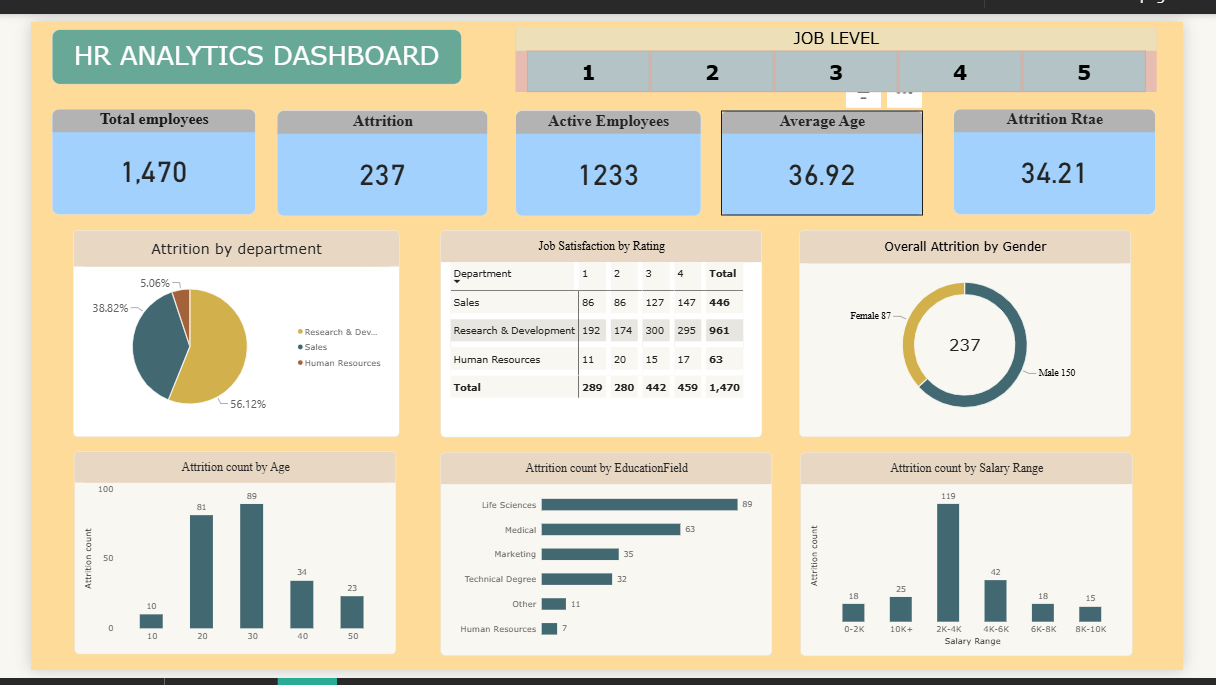

The dashboard page shown, as its layout file describes it:
{"tool":"powerbi","page":{"name":"Page 1","canvas":[1920,1080],"ordinal":0},"visuals":[{"type":"cardVisual","title":"Attrition Rtae","fields":{"Data":["ibm_employee.Average Attrition Risk (%)"]},"box":[1538.2,144.1,336.4,175.8],"z":0},{"type":"cardVisual","title":"Total employees","fields":{"Data":["ibm_employee.Total Employees"]},"box":[34.5,144.8,339.4,175.8],"z":1000},{"type":"cardVisual","title":"Attrition ","fields":{"Data":["ibm_employee.Predicted to Leave"]},"box":[410.3,148.3,351.5,175.8],"z":2000},{"type":"cardVisual","title":"Active Employees","fields":{"Data":["ibm_employee.Active employees"]},"box":[806.9,148.3,309.1,175.8],"z":3000},{"type":"textbox","box":[35.3,11.8,682.4,91.2],"z":4000},{"type":"cardVisual","title":"Average Age","fields":{"Data":["ibm_employee.Average Age"]},"box":[1150,147.1,336.4,175.8],"z":5000},{"type":"slicer","title":"JOB LEVEL","fields":{"Values":["ibm_employee.JobLevel"]},"box":[806.9,10.3,1069,106.9],"z":6000},{"type":"pieChart","title":"Attrition by department","fields":{"Category":["ibm_employee.Department"],"Y":["ibm_employee.Attrition dept"]},"box":[70.6,347.1,544.1,344.1],"z":7000},{"type":"pivotTable","title":"Job Satisfaction by Rating","fields":{"Columns":["ibm_employee.JobSatisfaction"],"Rows":["ibm_employee.Department"],"Values":["ibm_employee.Total Employees"]},"box":[683.3,347.2,536.1,344.4],"z":8000},{"type":"donutChart","title":"Overall Attrition by Gender","fields":{"Category":["ibm_employee.Gender"],"Y":["ibm_employee.Attrition count"]},"box":[1280,348,553,344],"z":9000},{"type":"barChart","fields":{"Category":["ibm_employee.EducationField"],"Y":["ibm_employee.Attrition count"]},"box":[682.1,717.9,552.8,338.9],"z":10000},{"type":"columnChart","title":"Attrition count by Age ","fields":{"Category":["ibm_employee.Age (bins)"],"Y":["ibm_employee.Attrition count"]},"box":[71.4,714.3,536.1,338.9],"z":11000},{"type":"columnChart","fields":{"Category":["ibm_employee.Salary Range"],"Y":["ibm_employee.Attrition count"]},"box":[1282.1,717.9,553,339],"z":12000}]}

Visuals, with their boxes in screenshot pixels (x1, y1, x2, y2), scaled from the page's 1920x1080 canvas onto the 1216x685 screenshot:
"Attrition Rtae" cardVisual: (974, 91, 1187, 203)
"Total employees" cardVisual: (22, 92, 237, 203)
"Attrition " cardVisual: (260, 94, 482, 206)
"Active Employees" cardVisual: (511, 94, 707, 206)
textbox: (22, 7, 455, 65)
"Average Age" cardVisual: (728, 93, 941, 205)
"JOB LEVEL" slicer: (511, 7, 1188, 74)
"Attrition by department" pieChart: (45, 220, 389, 438)
"Job Satisfaction by Rating" pivotTable: (433, 220, 772, 439)
"Overall Attrition by Gender" donutChart: (811, 221, 1161, 439)
barChart - ibm_employee.EducationField x ibm_employee.Attrition count: (432, 455, 782, 670)
"Attrition count by Age " columnChart: (45, 453, 385, 668)
columnChart - ibm_employee.Salary Range x ibm_employee.Attrition count: (812, 455, 1162, 670)
